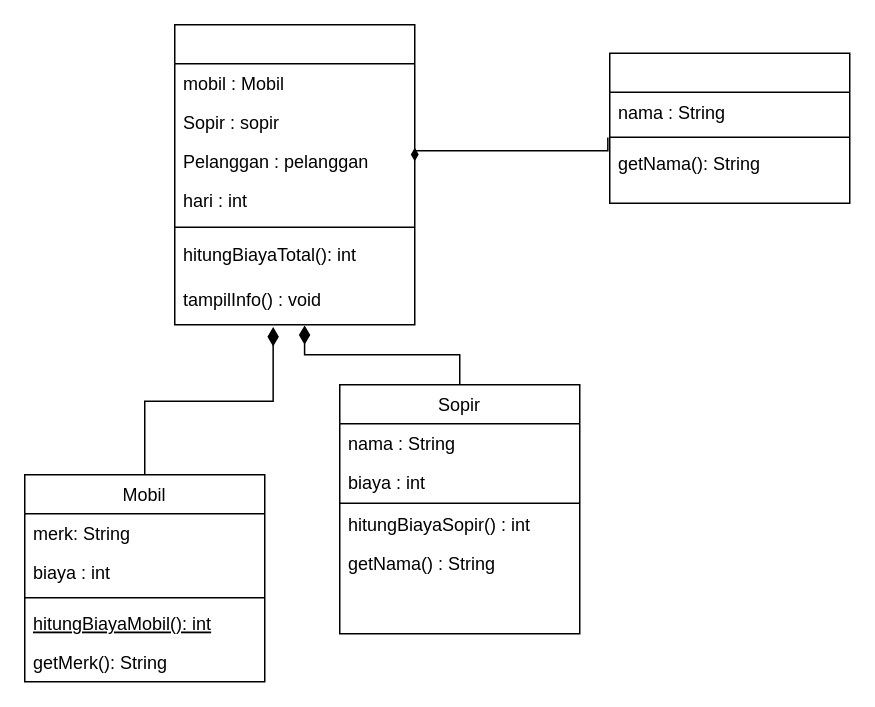
The diagram is 875 pixels wide and 707 high, and some of its shapes have lost their labels. The box of each missing label's shape, as (x1, y1, x2, y2) in pixels:
Paket Rental: (173, 23, 415, 325)
Pelanggan: (608, 52, 850, 203)
